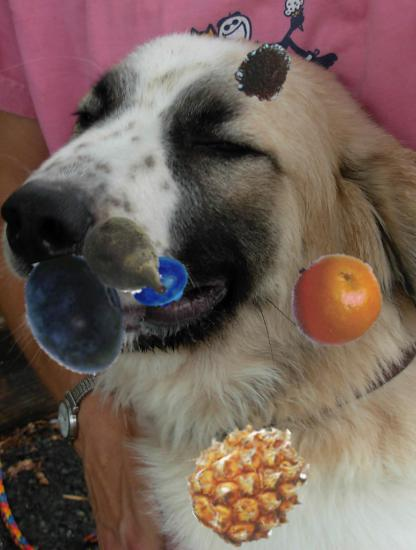Beetroot: (77, 212, 178, 313)
Blueberry: (14, 255, 138, 379)
Huckleberry: (131, 254, 191, 314)
Pineapple: (185, 419, 313, 547)
Rambutan: (233, 41, 297, 105)
Tangelo: (287, 251, 384, 348)
